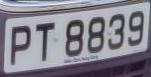3: (106, 11, 129, 53)
8: (63, 15, 87, 61), (85, 13, 108, 58)
9: (127, 8, 147, 50)
P: (7, 20, 34, 71)
T: (32, 19, 58, 68)
